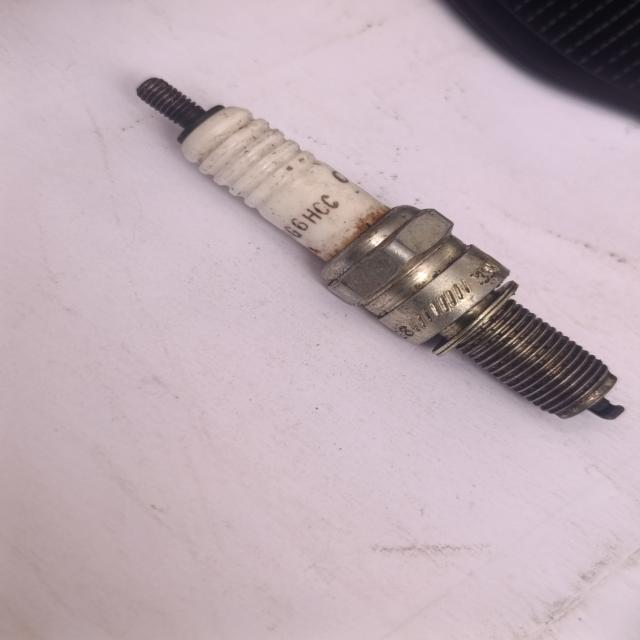bujia: (137, 78, 624, 419)
